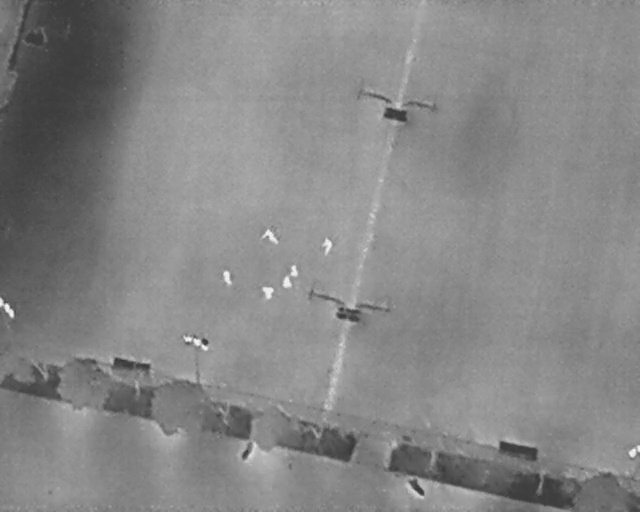Person: (262, 229, 278, 244), (322, 238, 333, 255), (222, 270, 233, 285), (263, 286, 274, 301), (282, 276, 293, 289), (290, 264, 299, 276)
